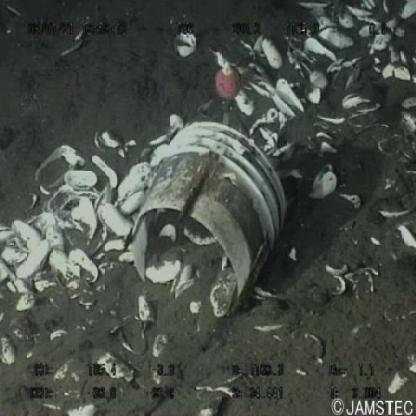Rác: (134, 121, 286, 317)
